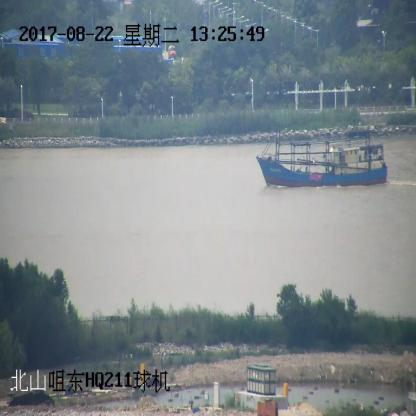Fishing Boat: (256, 127, 387, 186)
